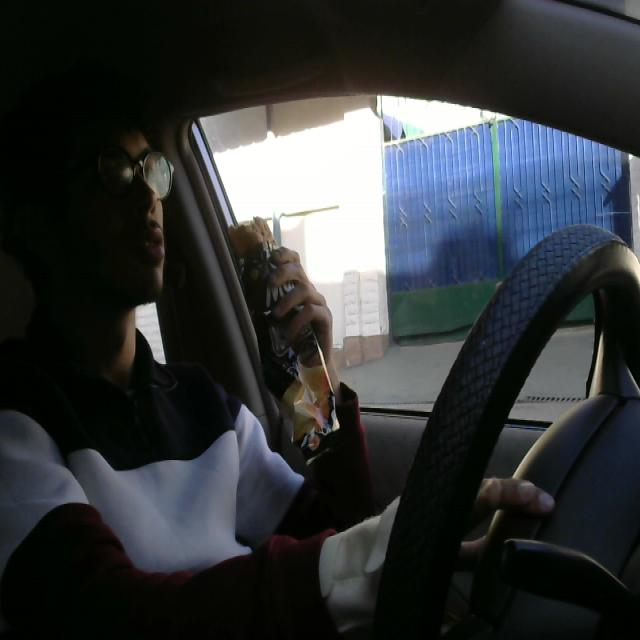eating: (218, 215, 345, 479)
